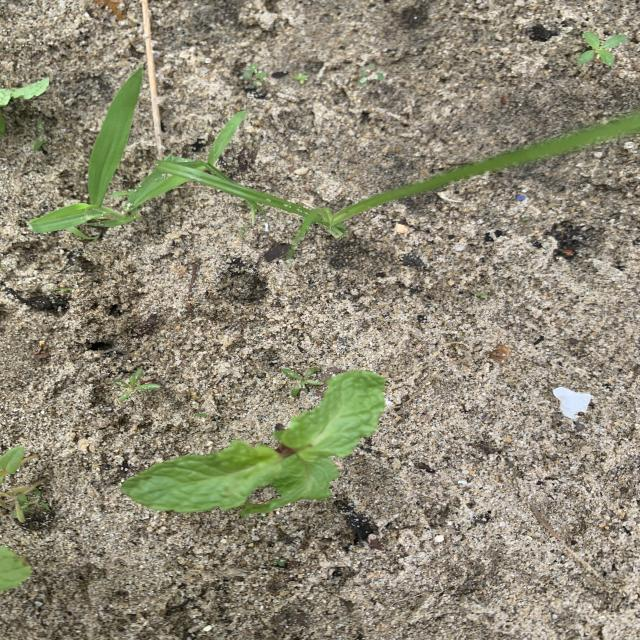crop: (123, 371, 385, 517)
weed: (158, 112, 640, 250), (30, 68, 186, 233), (577, 31, 627, 67), (0, 482, 40, 523), (116, 368, 158, 402), (0, 446, 38, 481), (283, 368, 321, 396), (240, 64, 267, 89), (358, 63, 385, 86), (295, 73, 308, 84)
